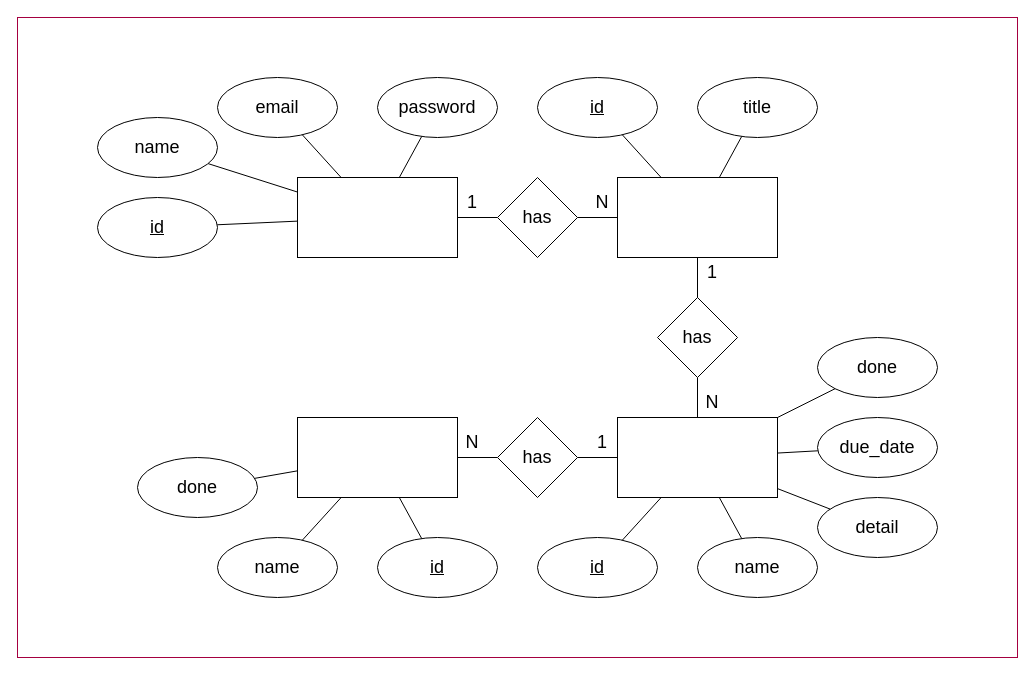
Image size: 1035x675. Some labels were removed from this diagram. Here are the shapes that lost their labels. From the top down, the centre of each, then its label:
At (x=377, y=217): "user".
At (x=697, y=217): "list".
At (x=377, y=457): "subtask".
At (x=697, y=457): "task".
